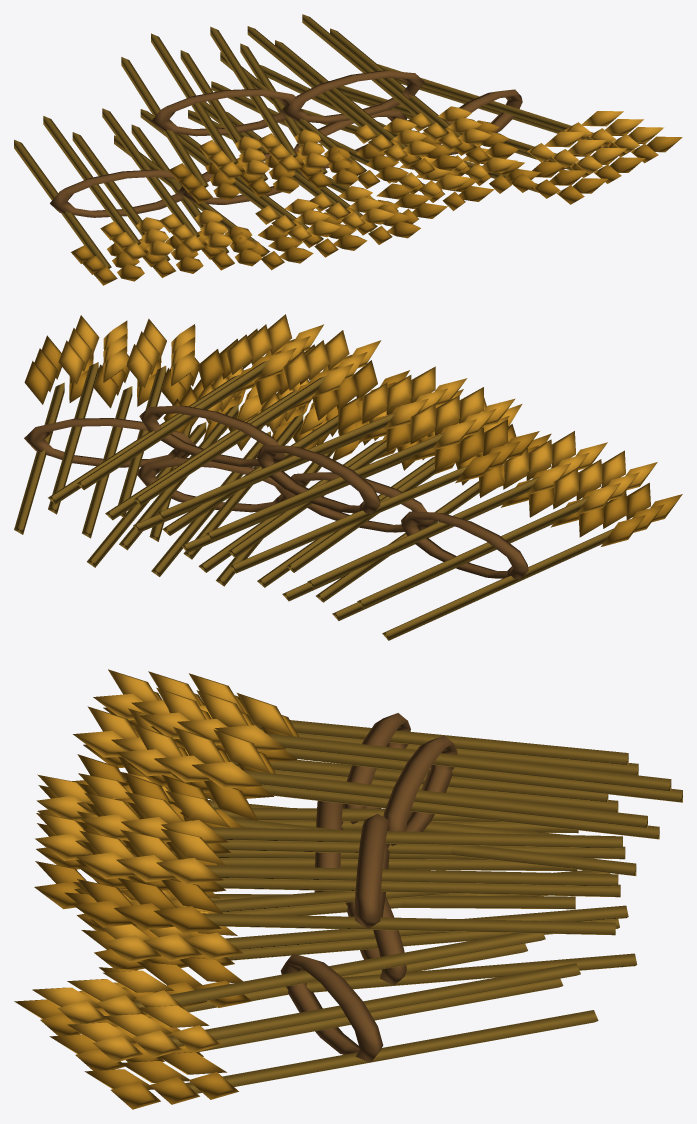
The model's file is pile-rice-6.obj.
3 views of the same model, one above another, from view 1: azimuth 30°, elevation 25°; view 2: azimuth 150°, elevation 25°; view 3: azimuth 270°, elevation 25° (orthographic). The views are drawn at different scales.
Visible parts, largest first — view 1: pile-rice-6; view 2: pile-rice-6; view 3: pile-rice-6.
Part boxes in pixels (box(x1,y1,x2,y2)): pile-rice-6: box(14, 14, 682, 285); pile-rice-6: box(14, 314, 682, 640); pile-rice-6: box(14, 669, 682, 1109).
Size of the model in its own units: 0.7921 by 0.1207 by 0.545.
Materials: 1 (1 with a texture image).
